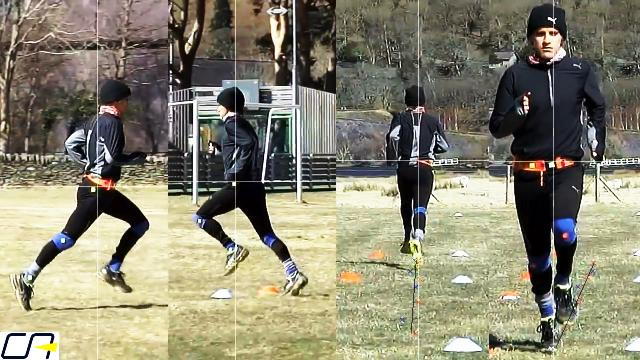berlari: (487, 2, 611, 356), (9, 77, 142, 307), (183, 83, 314, 301), (380, 80, 452, 262)
